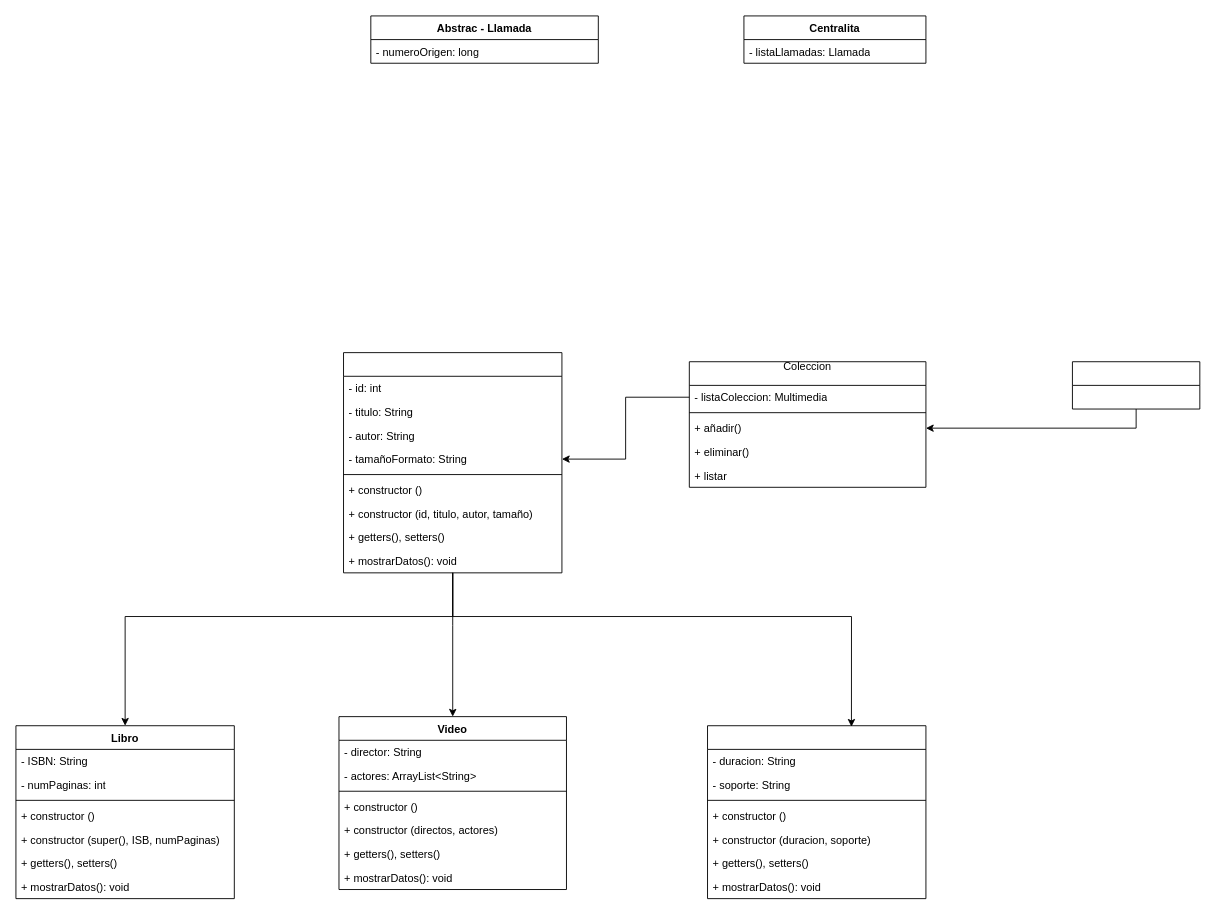
The diagram is 1216 pixels wide and 917 high, and some of its shapes have lost their labels. The shapes that lost their labels are listed below. From the top down, each one's box as (x1, y1, x2, y2) in pixels, then its label:
(1072, 361, 1200, 409): IGestor - Interfaz
(343, 352, 562, 573): Multimedia - Abstract
(707, 725, 926, 899): Audio
